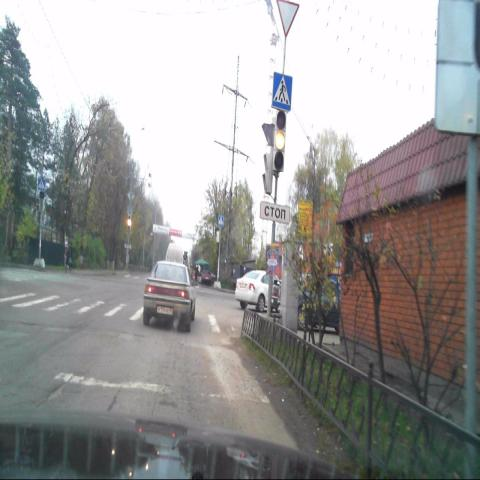2_4: (276, 0, 299, 38)
5_19_1: (271, 71, 293, 112)
6_16: (259, 201, 290, 224)
